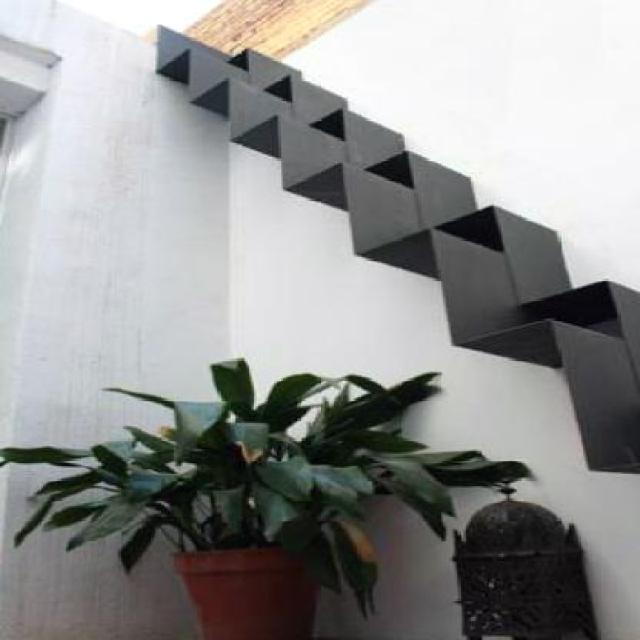stair: (127, 22, 638, 462)
